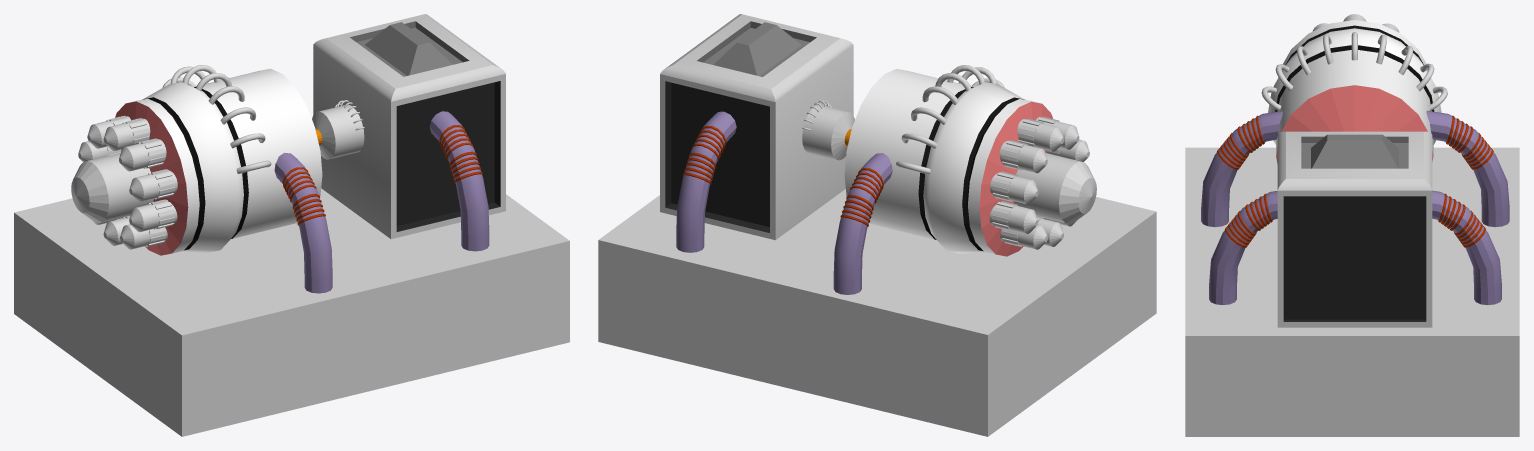
File: Engine.fbx
The picture shows the model from 3 angles, left to right: view 1: azimuth 30°, elevation 25°; view 2: azimuth 150°, elevation 25°; view 3: azimuth 270°, elevation 25°; orthographic projection.
Parts seen in each view (by area): view 1: Box854, Cylinder081, Box816, Box818, Box817, Box819, Box821, Box826, generator pipe001, generator pipe, generator_big coil, Box822 (+8 smaller); view 2: Box854, Cylinder081, Box826, Box828, Box827, Box829, Box821, Box816, generator pipe002, generator pipe003, generator_big coil, Box822 (+8 smaller); view 3: Box854, Box819, Box829, Cylinder081, Box824, generator pipe003, generator pipe, generator pipe002, generator pipe001, Box818, Box816, Box828 (+3 smaller).
Part boxes in pixels (box(x1,y1,x2,y2)): Box854: box(313, 14, 505, 239); Cylinder081: box(115, 68, 322, 255); Box816: box(126, 271, 278, 436); Box818: box(331, 230, 472, 389); Box817: box(223, 251, 375, 413); Box819: box(427, 200, 569, 365); Box821: box(70, 243, 222, 395); Box826: box(14, 198, 109, 354); generator pipe001: box(429, 111, 489, 251); generator pipe: box(274, 152, 332, 293); generator_big coil: box(71, 152, 153, 223); Box822: box(198, 225, 303, 270); Box854: box(660, 14, 853, 240); Cylinder081: box(844, 68, 1052, 256); Box826: box(890, 270, 1044, 436); Box828: box(695, 231, 835, 389); Box827: box(793, 250, 946, 412); Box829: box(598, 199, 739, 365); Box821: box(947, 242, 1100, 395); Box816: box(1059, 197, 1156, 354); generator pipe002: box(676, 111, 736, 252); generator pipe003: box(833, 153, 892, 294); generator_big coil: box(1014, 153, 1096, 223); Box822: box(863, 225, 969, 269); Box854: box(1277, 131, 1432, 327); Box819: box(1185, 289, 1296, 436); Box829: box(1408, 289, 1519, 436); Cylinder081: box(1268, 20, 1441, 164); Box824: box(1296, 327, 1408, 436); generator pipe003: box(1426, 110, 1509, 227); generator pipe: box(1201, 111, 1282, 227); generator pipe002: box(1432, 190, 1501, 304); generator pipe001: box(1209, 191, 1277, 304); Box818: box(1185, 242, 1277, 288); Box816: box(1185, 147, 1277, 194); Box828: box(1432, 242, 1519, 288).
Bounding box in the file's own units: 166 × 106 × 118.
